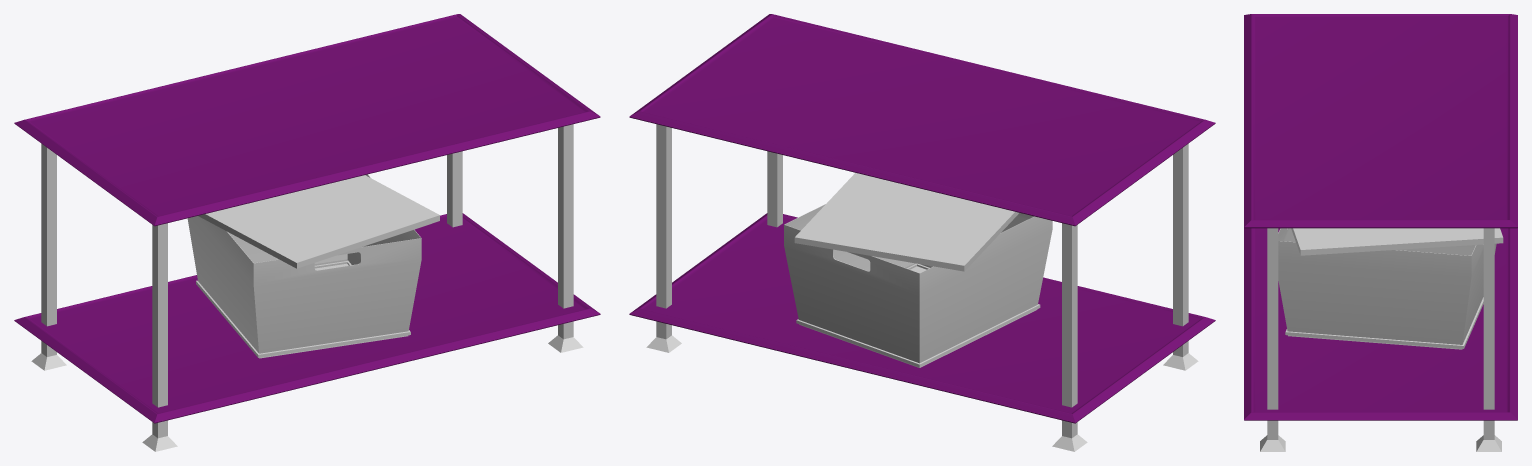
Rendered from Schnippel_Kiste.fbx.
3 views of the same model, side by side, from view 1: azimuth 30°, elevation 25°; view 2: azimuth 150°, elevation 25°; view 3: azimuth 270°, elevation 25° (orthographic). The views are drawn at different scales.
Parts seen in each view (by area): view 1: Schnippeltisch, Kiste_biohazard; view 2: Schnippeltisch, Kiste_biohazard; view 3: Schnippeltisch, Kiste_biohazard.
Part boxes in pixels (x1=…): Schnippeltisch: x1=14, y1=14, x2=600, y2=451; Kiste_biohazard: x1=187, y1=174, x2=439, y2=358; Schnippeltisch: x1=629, y1=14, x2=1215, y2=451; Kiste_biohazard: x1=784, y1=173, x2=1052, y2=367; Schnippeltisch: x1=1244, y1=14, x2=1517, y2=451; Kiste_biohazard: x1=1278, y1=228, x2=1503, y2=349.
Size of the model in its own units: 148 by 75.89 by 80.89.
